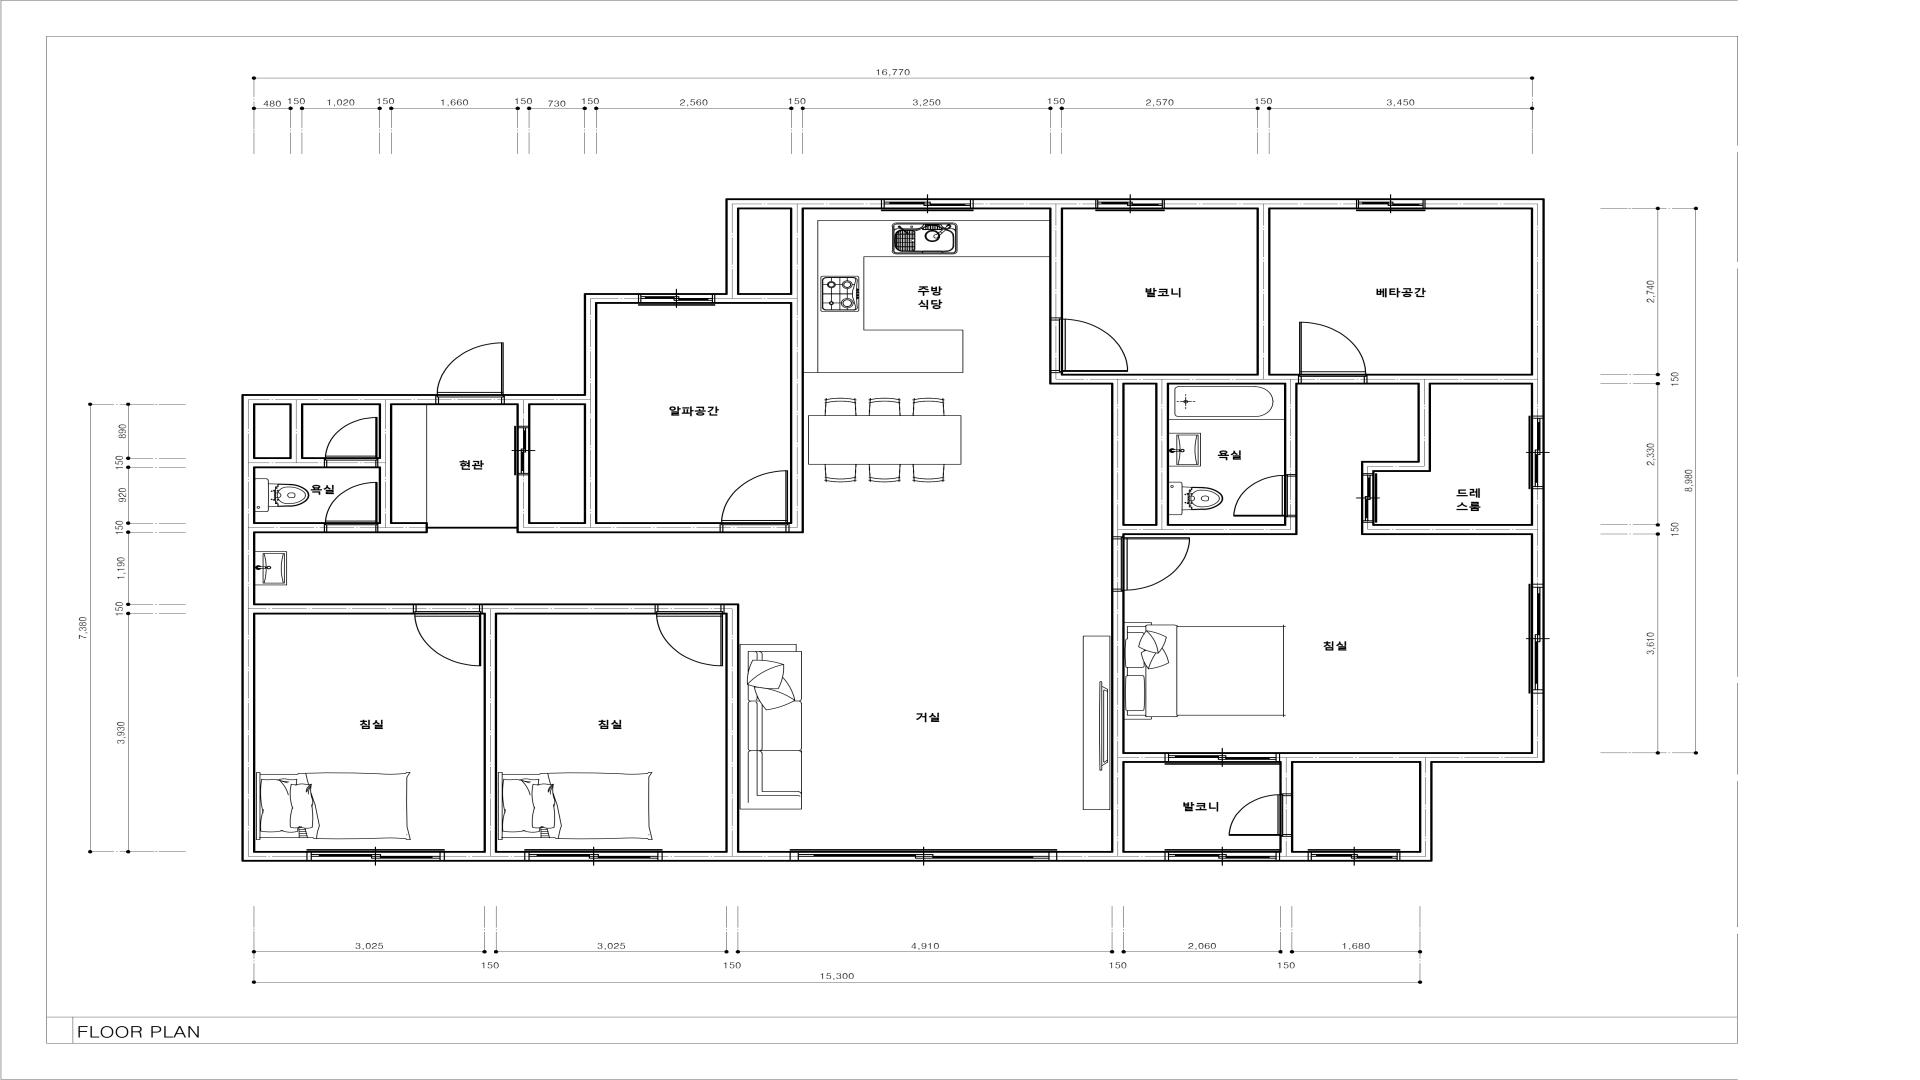door: (1049, 318, 1129, 374), (655, 603, 725, 667), (1111, 536, 1190, 592), (435, 342, 505, 405), (413, 604, 483, 667), (720, 470, 789, 533), (1298, 322, 1367, 385), (1229, 793, 1293, 837), (324, 417, 379, 468), (1233, 474, 1298, 517), (324, 482, 378, 533), (1361, 472, 1377, 524)
wall: (241, 405, 255, 862), (790, 210, 804, 533), (1111, 592, 1125, 851), (725, 603, 739, 851), (483, 615, 497, 851), (1531, 210, 1545, 415), (1049, 374, 1298, 385), (1257, 209, 1271, 374), (516, 522, 719, 533), (241, 394, 435, 405), (1111, 385, 1125, 536), (1165, 198, 1356, 209), (483, 603, 654, 615), (1155, 385, 1169, 524), (1361, 524, 1531, 535), (1367, 374, 1531, 385), (1125, 524, 1284, 535), (255, 603, 413, 614), (725, 198, 881, 209), (1279, 752, 1419, 763), (379, 405, 392, 522), (584, 405, 597, 522), (1049, 210, 1063, 318), (663, 851, 790, 862), (1419, 752, 1433, 851), (974, 198, 1095, 209), (1531, 489, 1545, 584), (725, 210, 739, 304), (584, 293, 597, 394), (1426, 198, 1545, 209), (1284, 385, 1298, 474), (1417, 385, 1431, 472), (1057, 851, 1165, 862), (1433, 752, 1531, 763), (505, 394, 597, 405), (1531, 694, 1545, 763), (445, 851, 524, 862), (255, 457, 324, 468), (255, 522, 324, 533), (289, 405, 303, 457), (516, 475, 530, 522), (1361, 461, 1417, 472), (378, 522, 428, 533), (740, 293, 790, 304), (256, 851, 306, 862), (598, 293, 638, 304), (1125, 752, 1165, 763), (1279, 763, 1293, 793), (1400, 851, 1433, 862), (1279, 851, 1308, 862), (516, 405, 530, 426), (1284, 517, 1297, 535), (1279, 837, 1293, 851), (715, 293, 725, 304)
window: (790, 849, 1057, 862), (1528, 584, 1545, 694), (524, 849, 663, 862), (307, 849, 445, 862), (1165, 849, 1279, 862), (1165, 752, 1279, 765), (1528, 416, 1545, 489), (881, 198, 974, 211), (1308, 849, 1400, 862), (638, 293, 715, 306), (1095, 198, 1165, 211), (1356, 198, 1426, 211)
